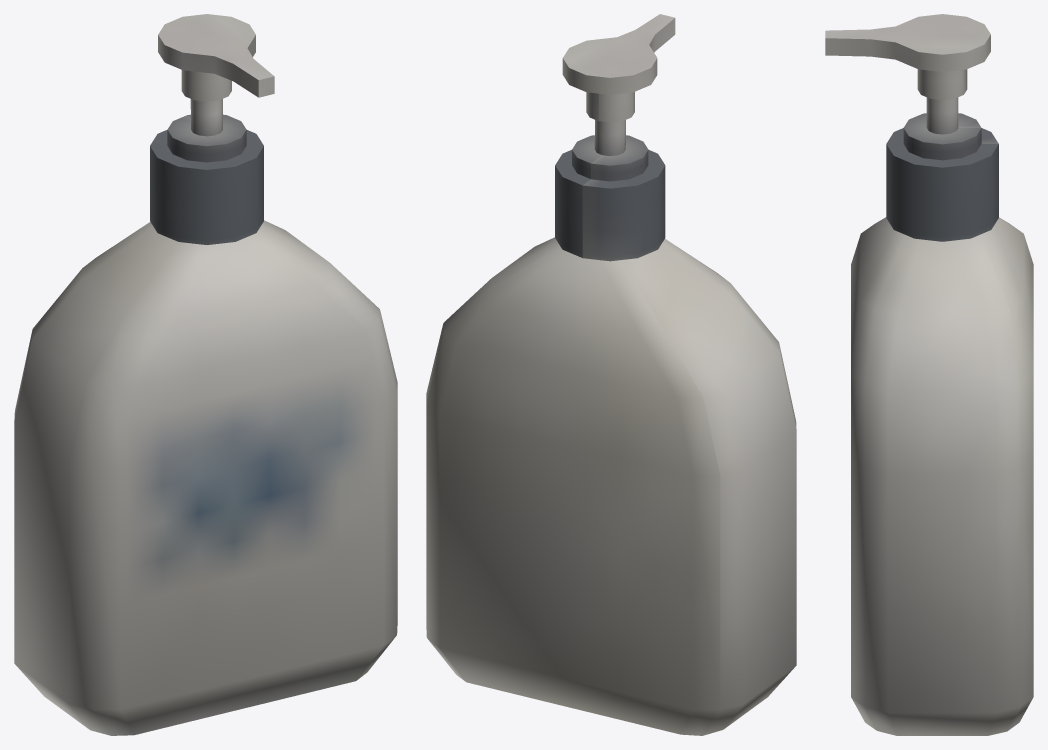
File: T_Soap.FBX
The picture shows the model from 3 angles, left to right: view 1: azimuth 30°, elevation 25°; view 2: azimuth 150°, elevation 25°; view 3: azimuth 270°, elevation 25°; orthographic projection. The views are drawn at different scales.
Parts seen in each view (by area): view 1: T_Soap; view 2: T_Soap; view 3: T_Soap.
Boxes of the visible parts, <box> form: T_Soap: <box>14,14,397,735</box>; T_Soap: <box>426,14,796,735</box>; T_Soap: <box>825,14,1033,735</box>.
Bounding box in the file's own units: 8.93 × 16.81 × 4.98.
